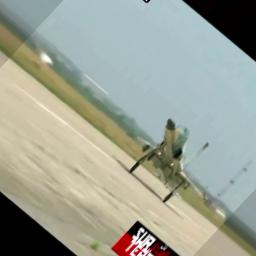Airplane: (132, 117, 210, 202)
